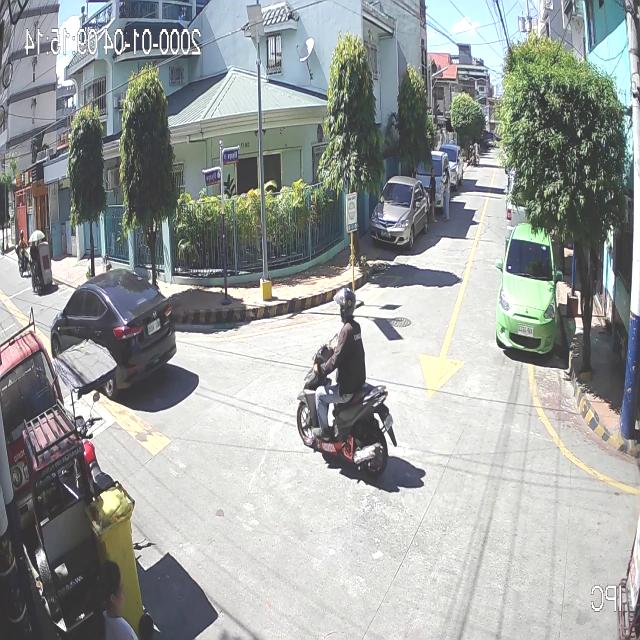standing: (439, 166, 452, 221), (427, 166, 438, 223)
walking: (89, 554, 142, 640)
